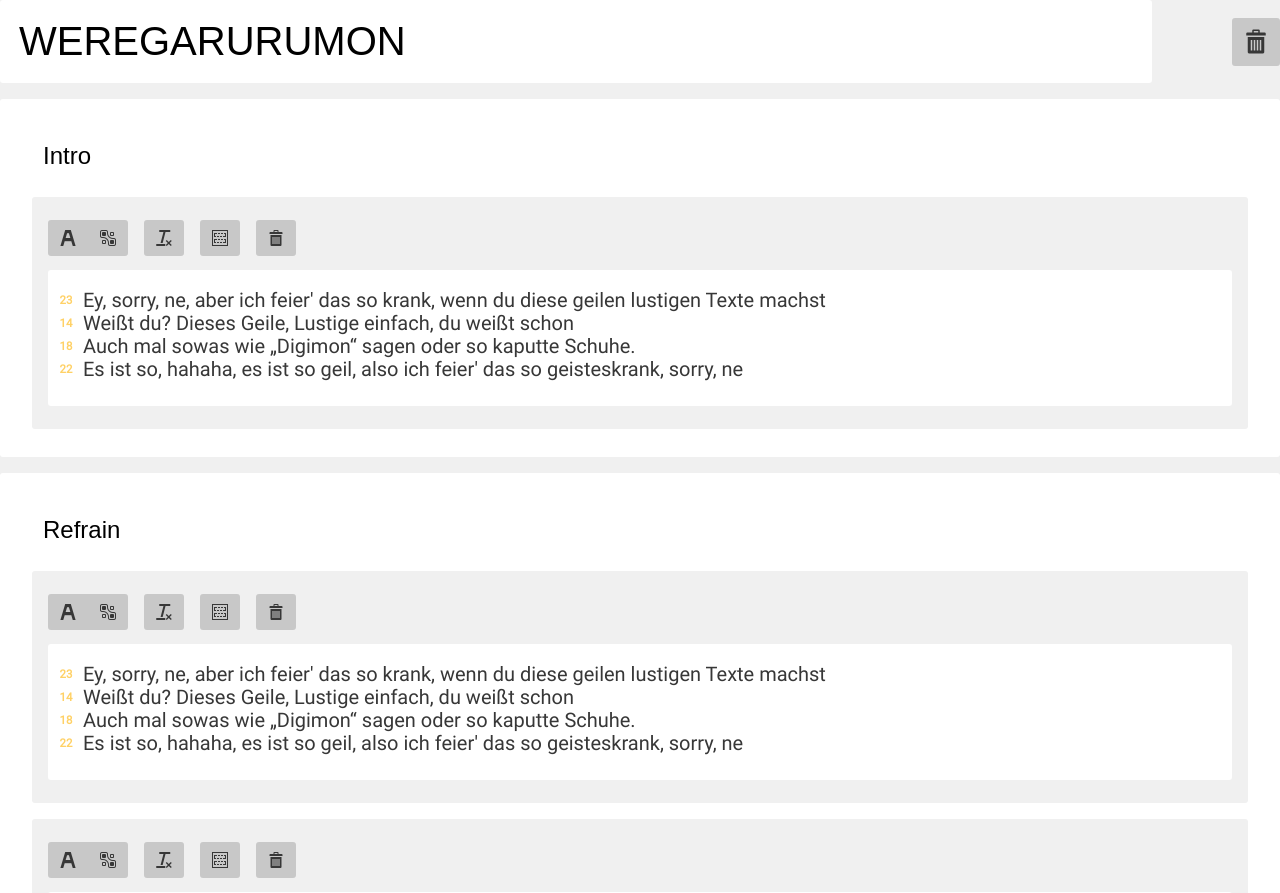
Test case: SongParts › should delete song-part when confirm deletion via confirmation dialog
What coordinates should you click on to do the following:
click the 1st icon with class "icon-trash"
I would click on:
 (1256, 42)
Its box is [1232, 18, 1279, 66].
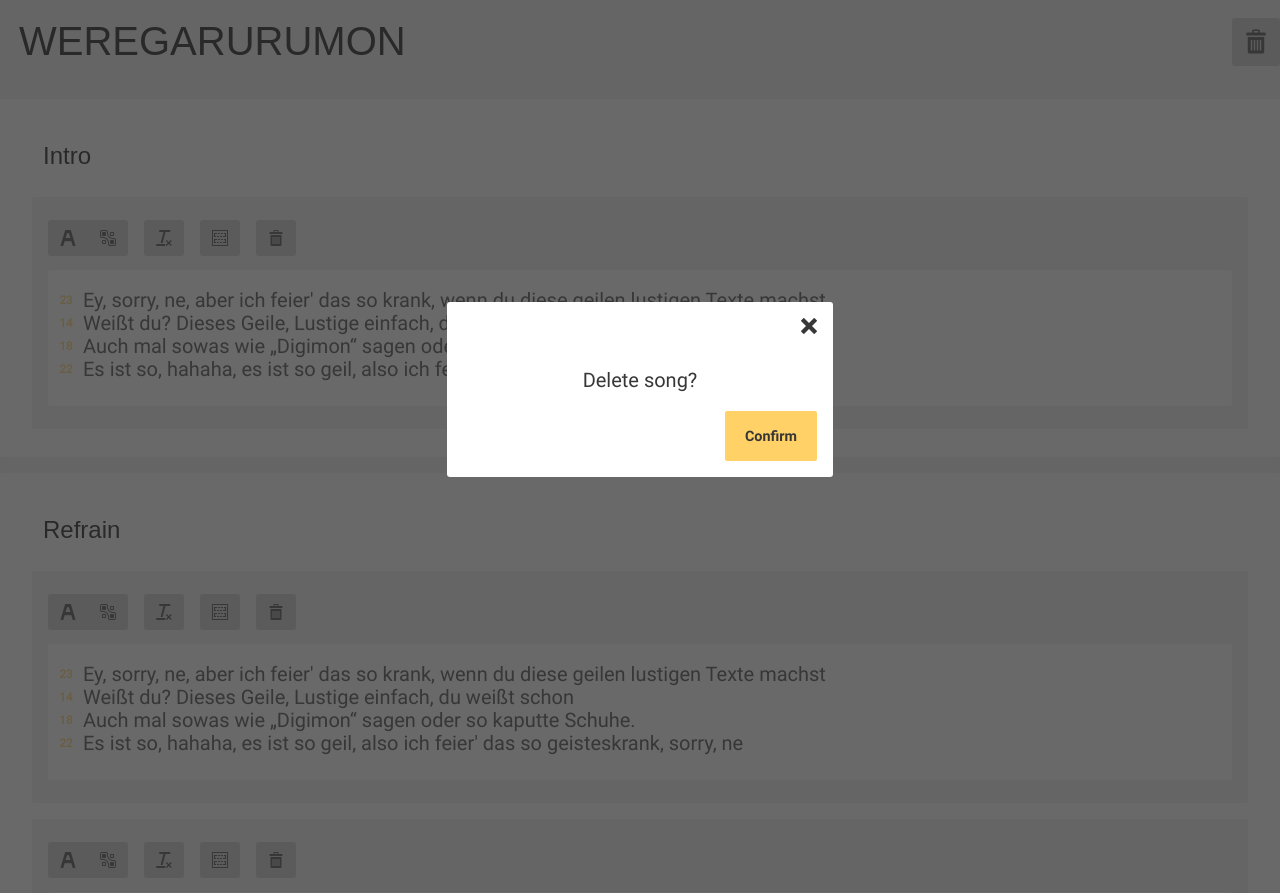
Expected: the button "Confirm" is shown
What coordinates should you click on to do the following:
click the button "Confirm"
I would click on:
 (771, 436)
Its box is [725, 411, 817, 461].
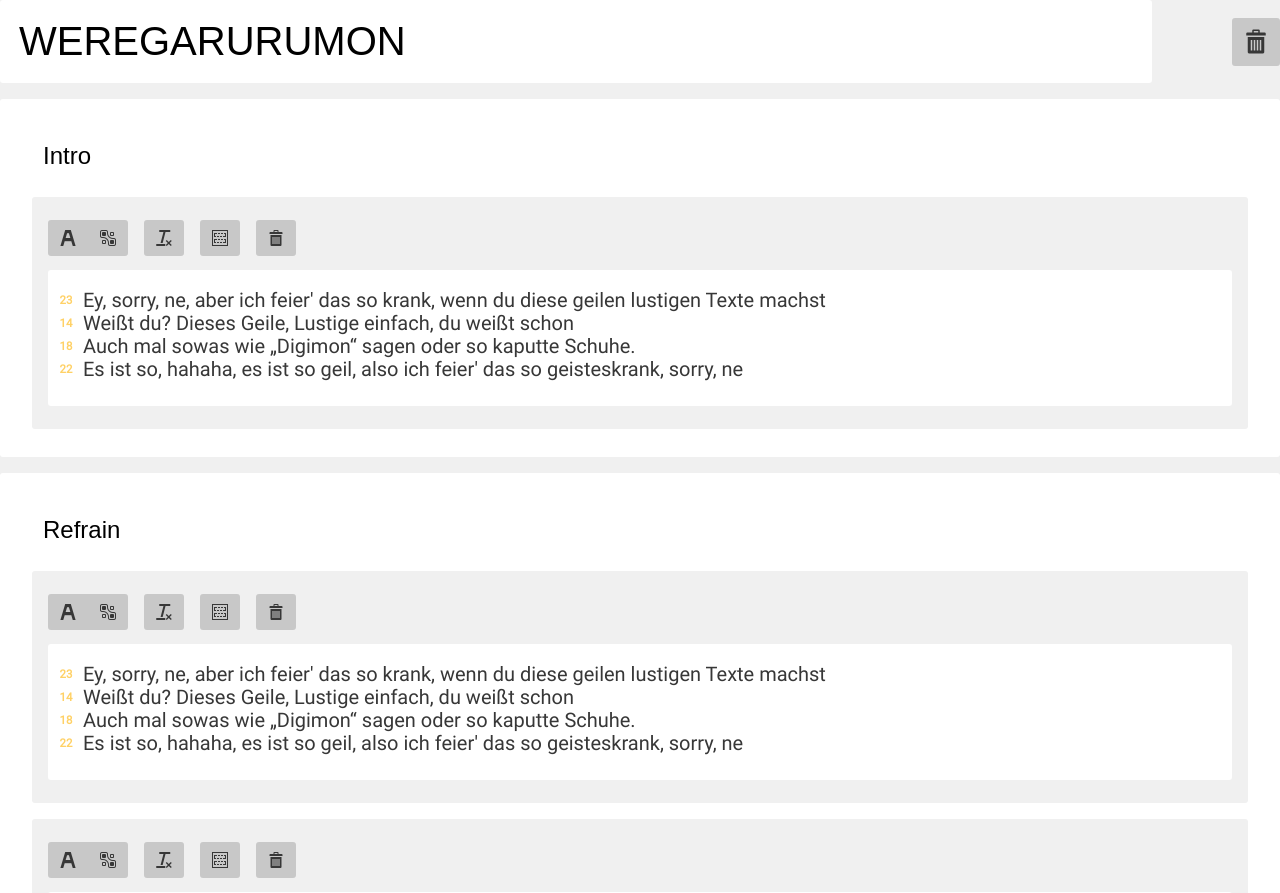
Expected: the button "Confirm" is gone
